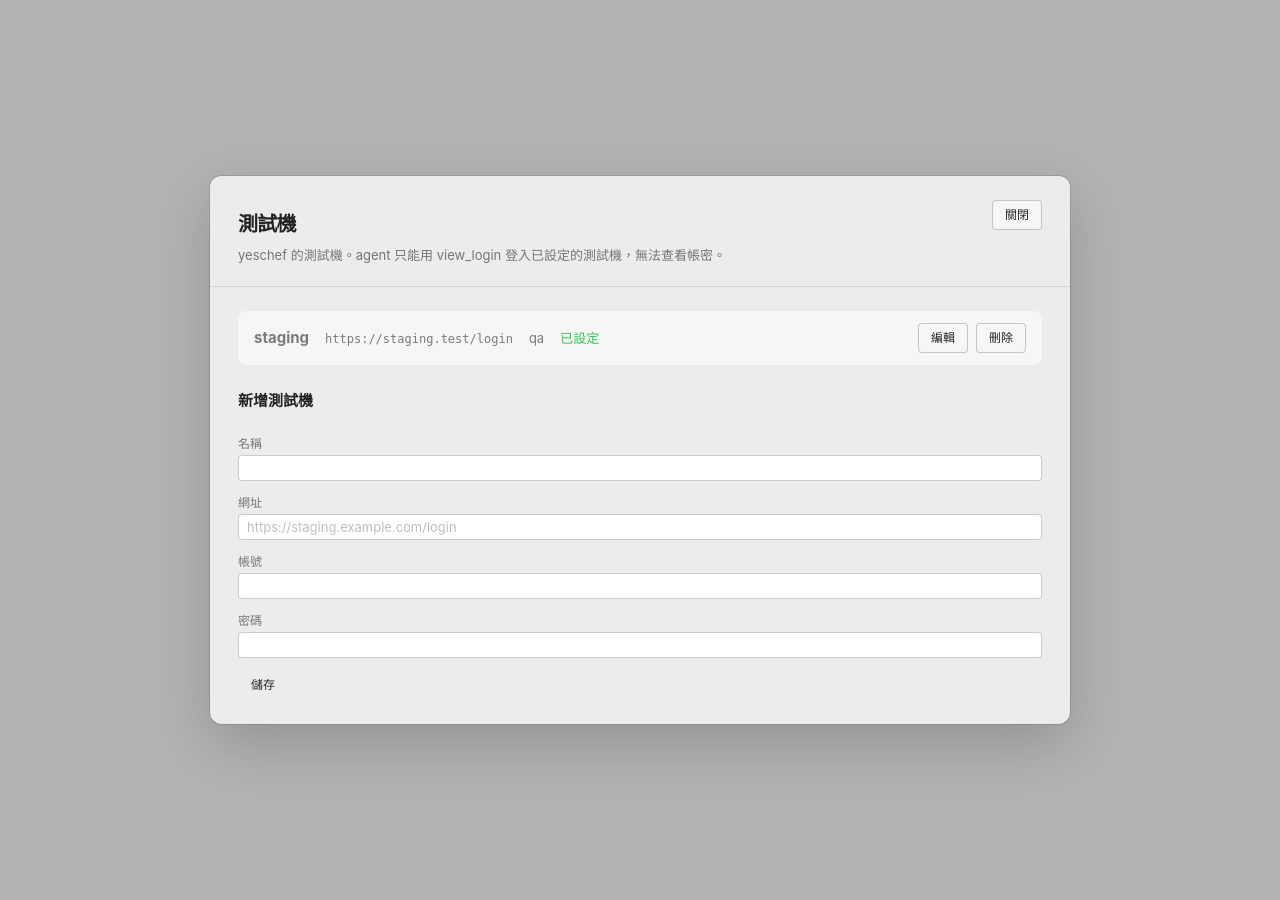
TestMachinesManager › 新增:四欄送 upsert,帶目前的 revision
Expected: the heading "staging" is shown, [254, 328, 309, 347]
Type "uat" into the field labelled "名稱" at (640, 468), box [238, 455, 1042, 481]
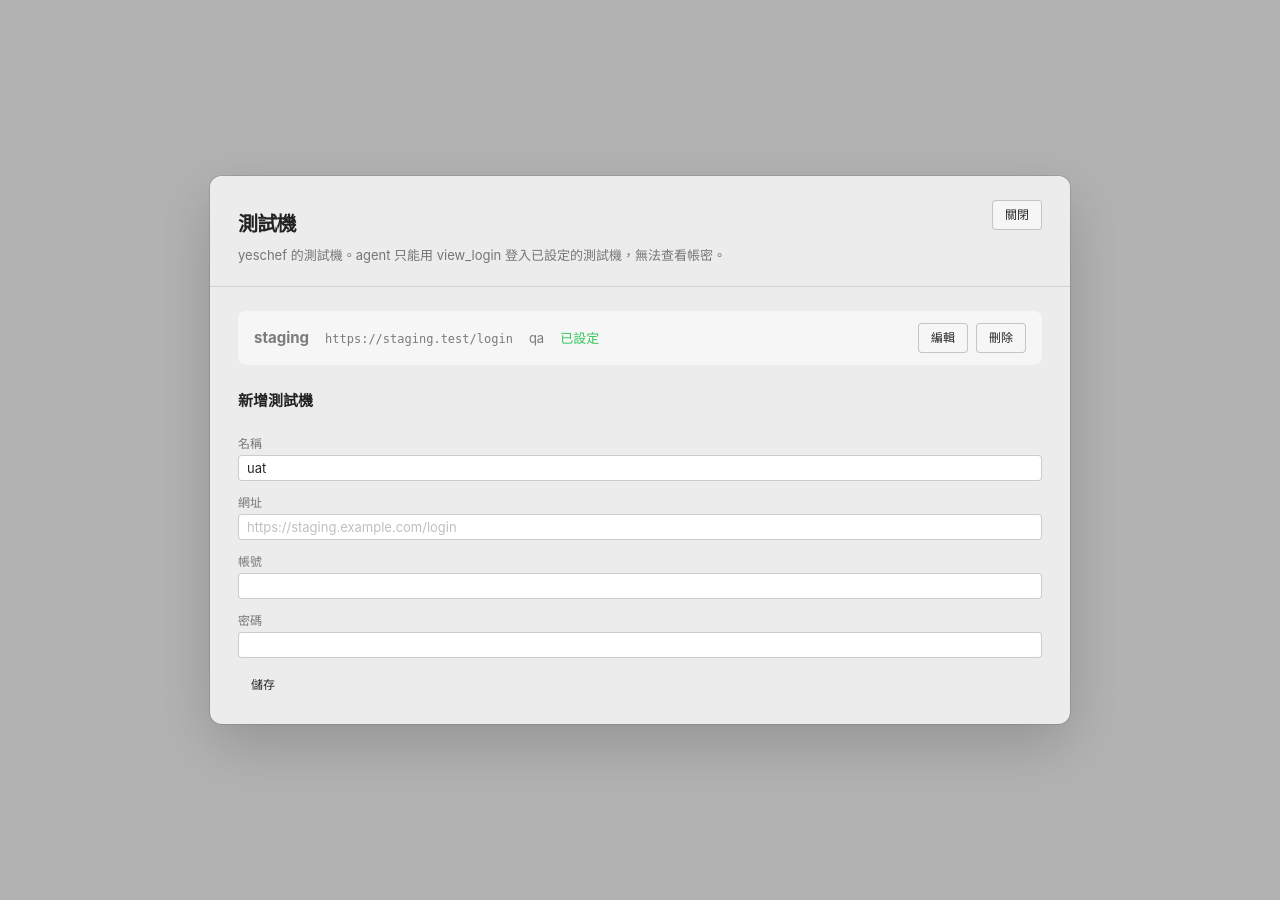
Type "https://uat.test/" into the field labelled "網址" at (640, 527), box [238, 514, 1042, 540]
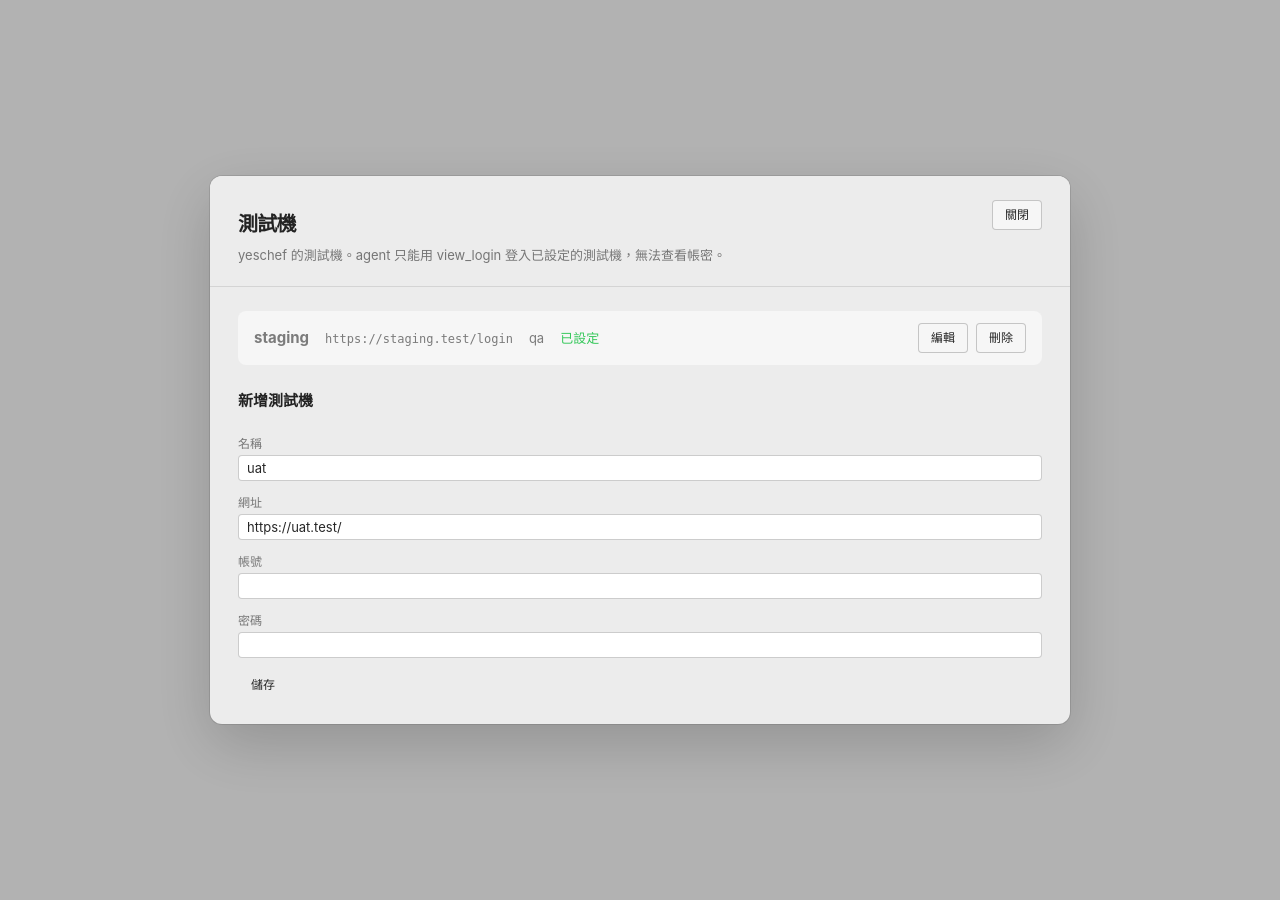
Type "tester" into the field labelled "帳號" at (640, 586), box [238, 573, 1042, 599]
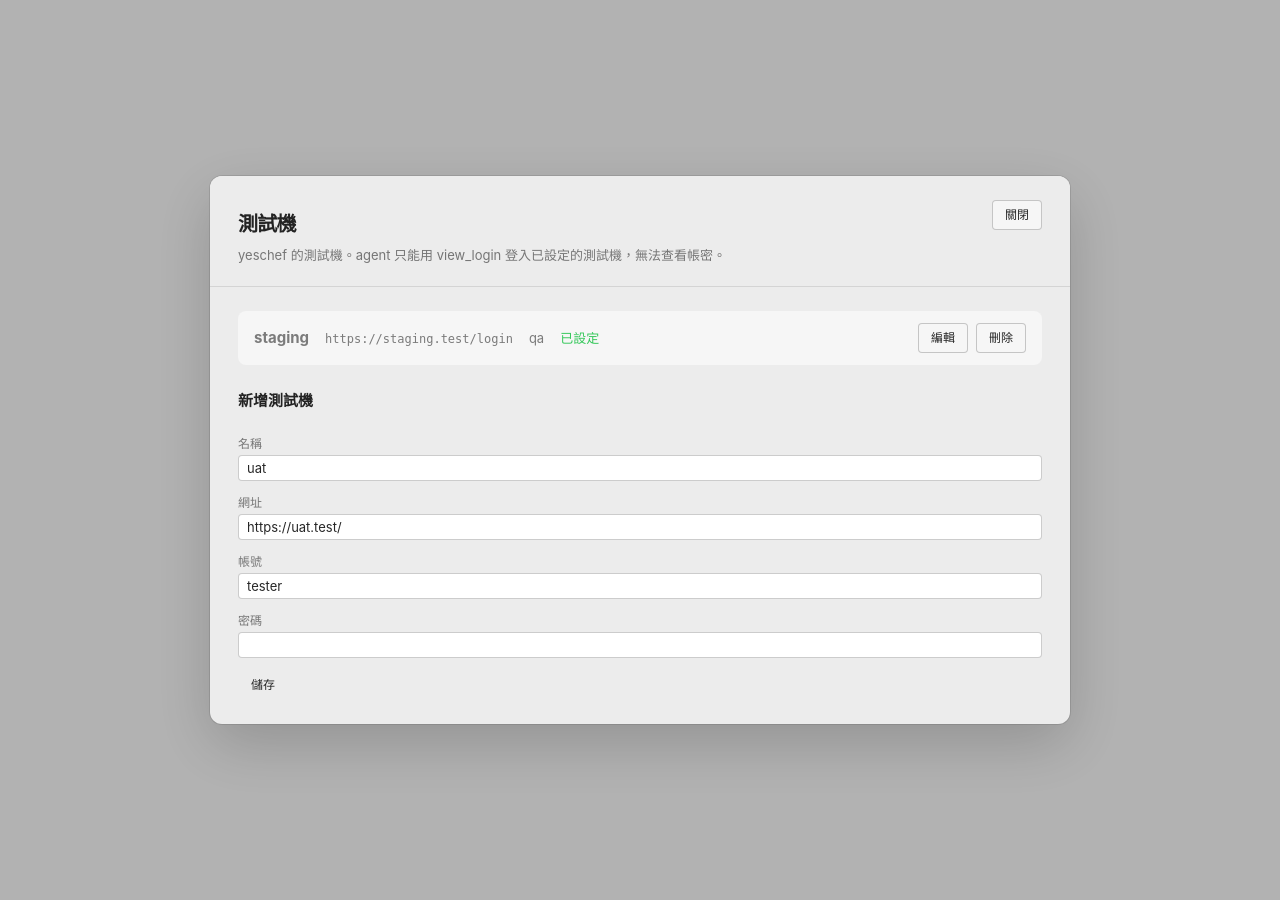
Type "pw" into the password field labelled "密碼" at (640, 645), box [238, 632, 1042, 658]
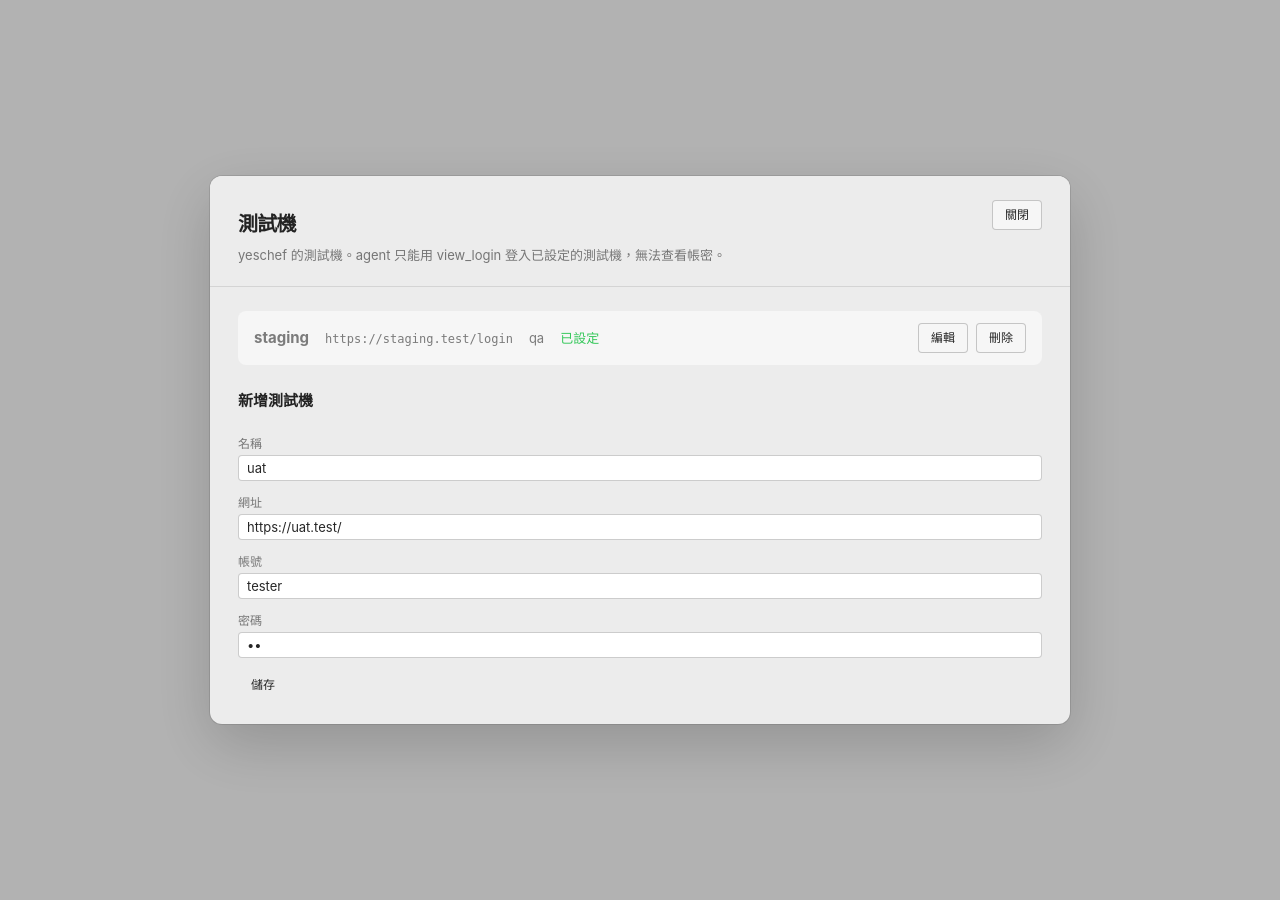
Click the button "儲存" at (263, 685), box [238, 670, 288, 700]
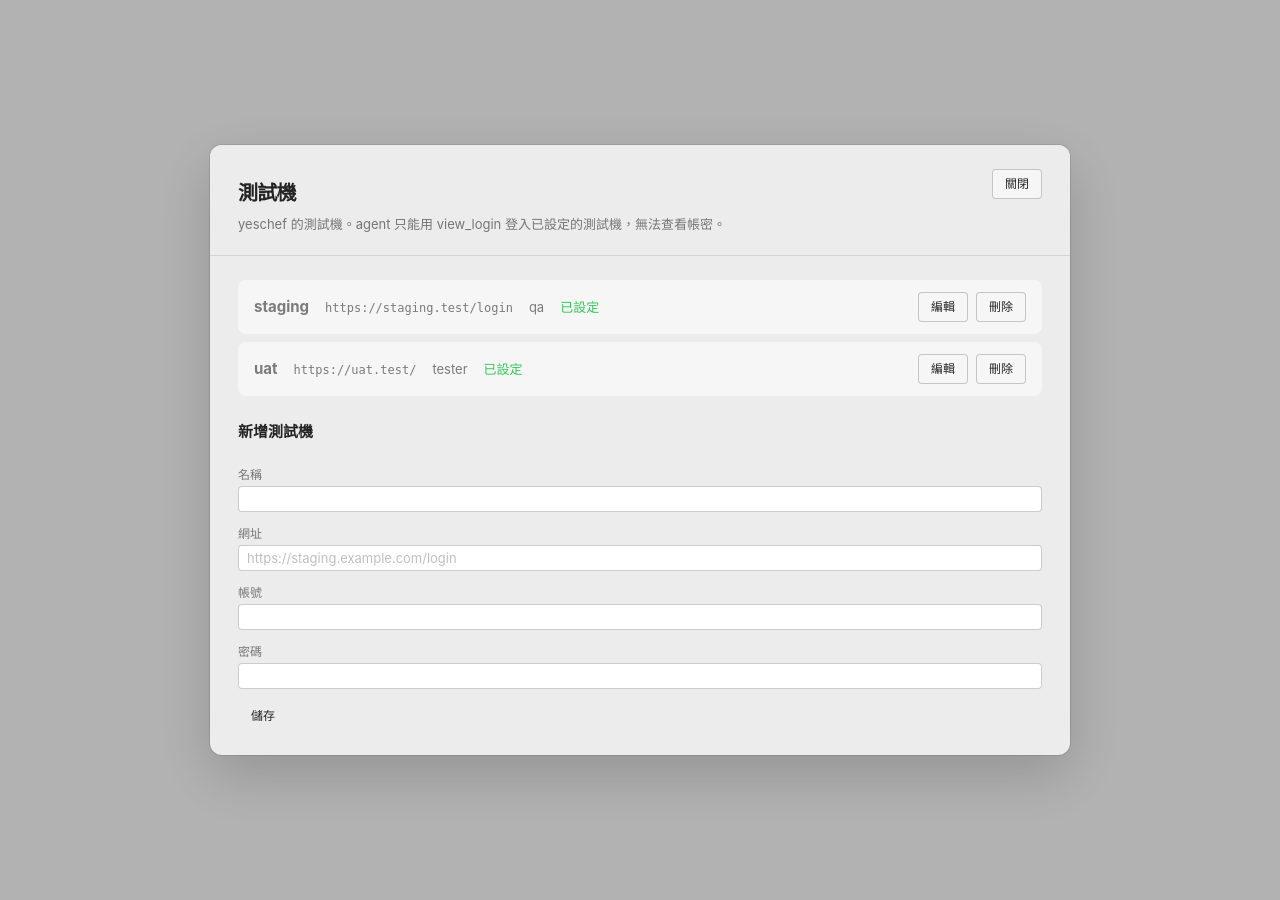
Expected: the heading "uat" is shown, [254, 359, 278, 378]
Expected: the password field labelled "密碼" is empty, [238, 663, 1042, 689]
